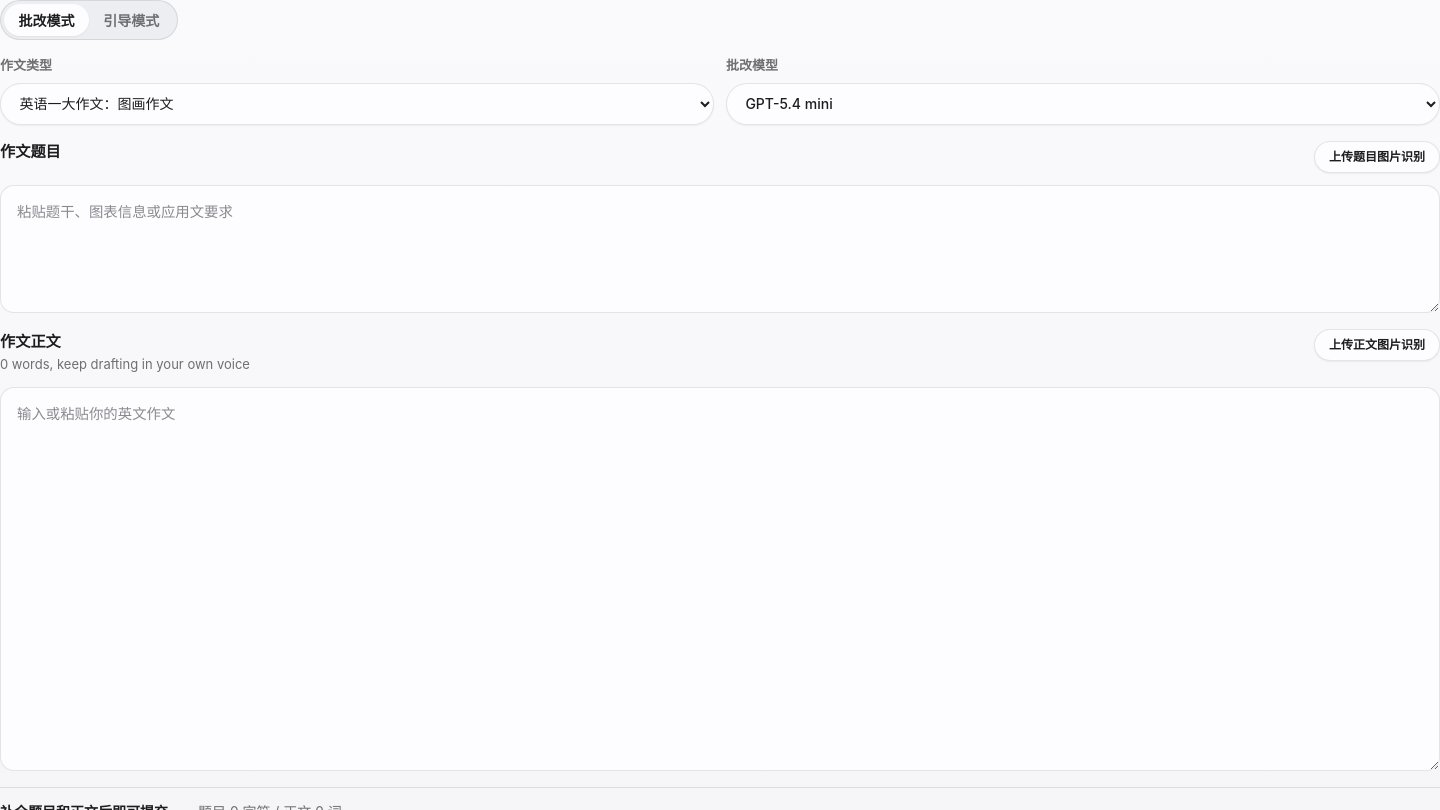
Test case: EssaySubmitForm › shows a specific review progress state while submitting
Type "Write about steady practice." into the text box labelled "作文题目".
click(720, 249); type("Write about steady practice.")  # box x1=0 y1=185 x2=1439 y2=313
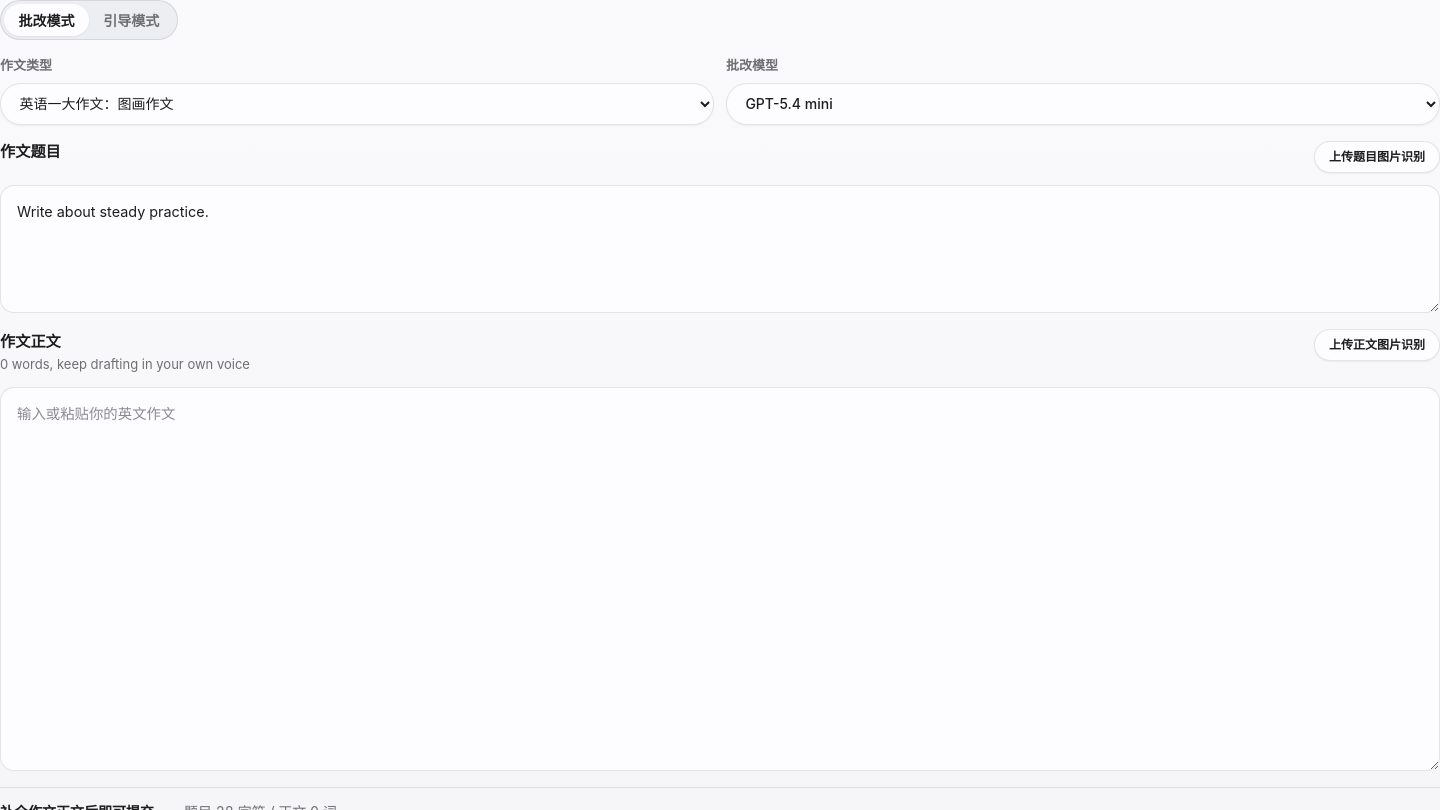
Type "Practice is important for every student." into the text box labelled "作文正文".
click(720, 579); type("Practice is important for every student.")  # box x1=0 y1=387 x2=1439 y2=771
(page scrolled)
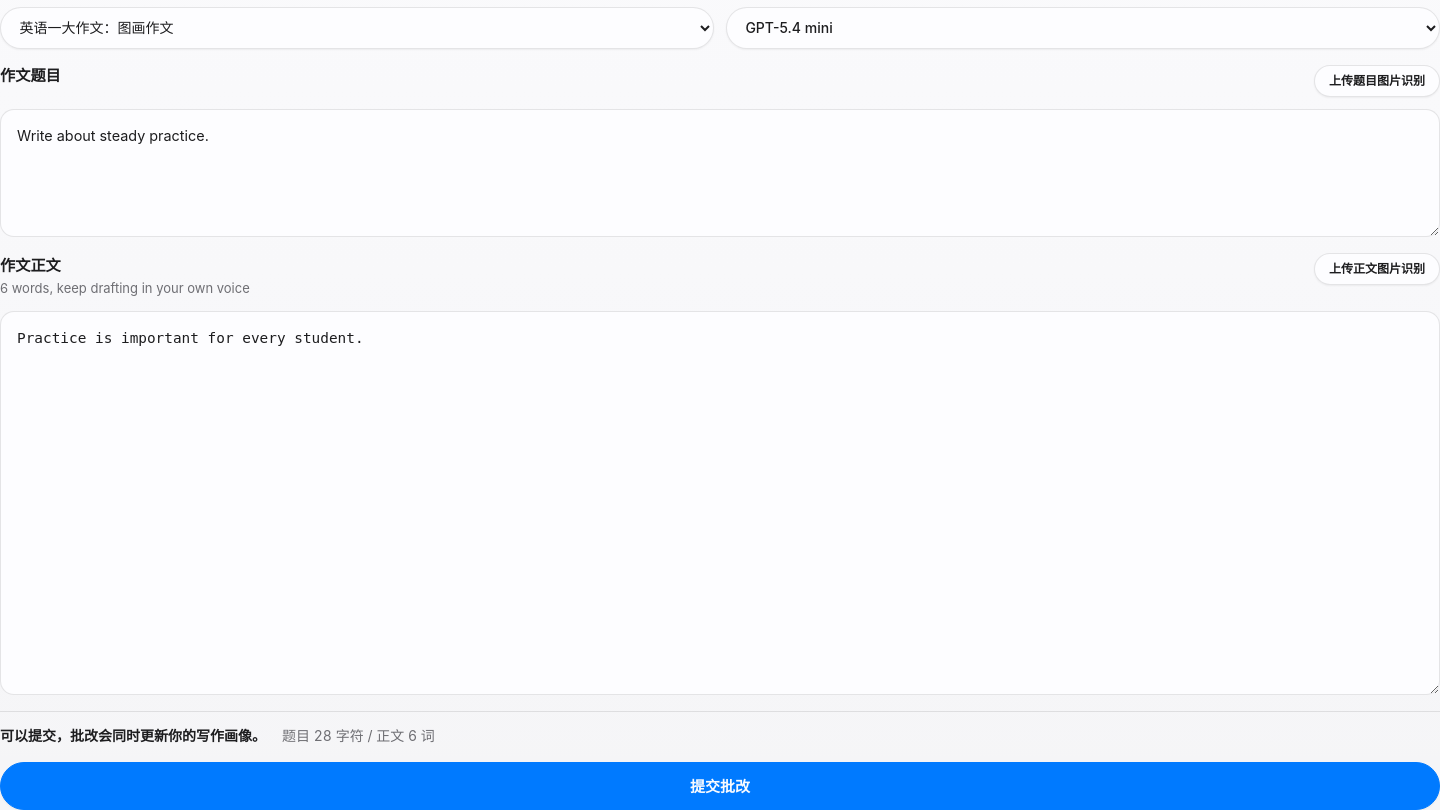
Click the button "提交批改".
click(720, 786)  # box x1=0 y1=762 x2=1439 y2=809
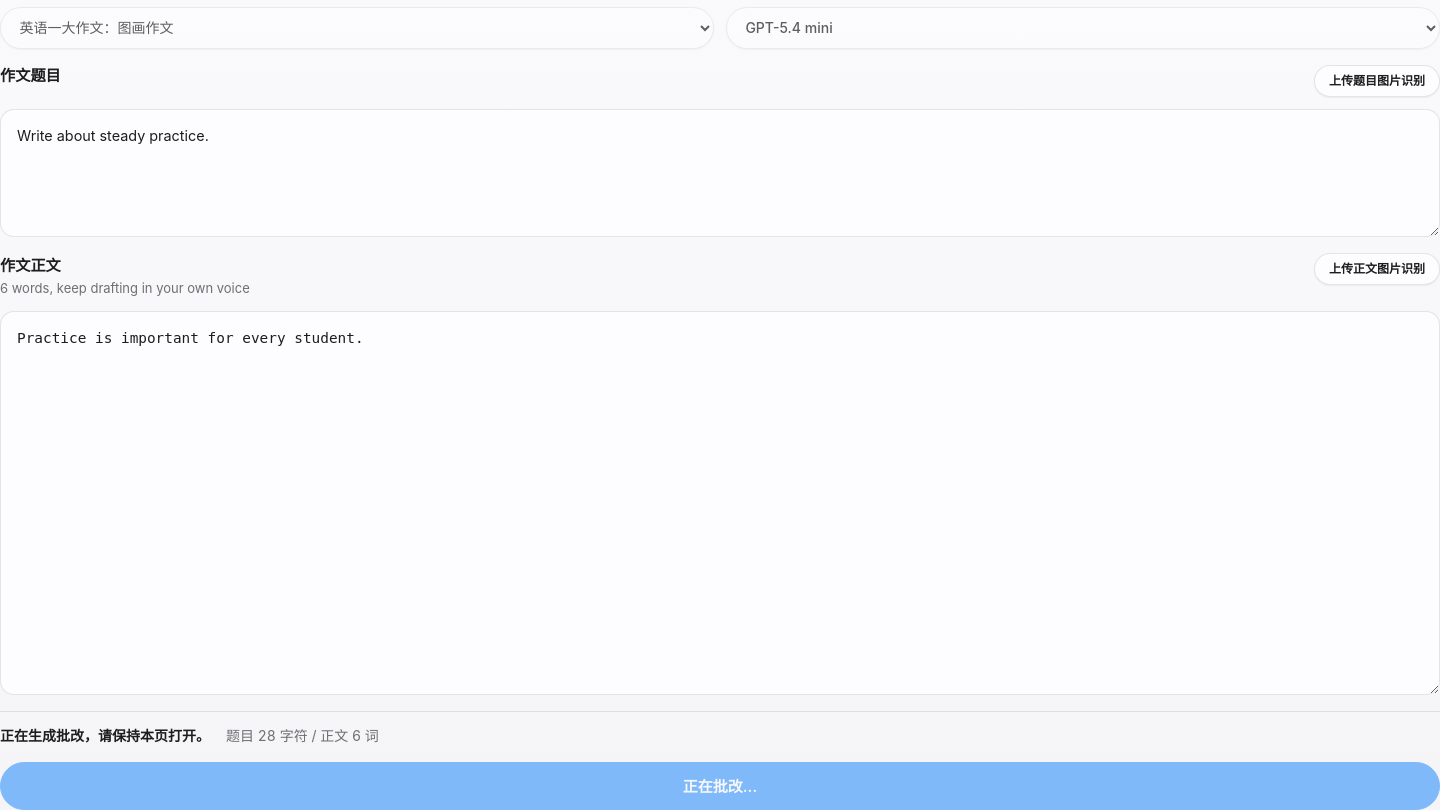
Expected: the button "正在批改..." is disabled, x1=0 y1=762 x2=1439 y2=809
Expected: the message shows "正在生成批改，请保持本页打开。", x1=0 y1=728 x2=210 y2=744
